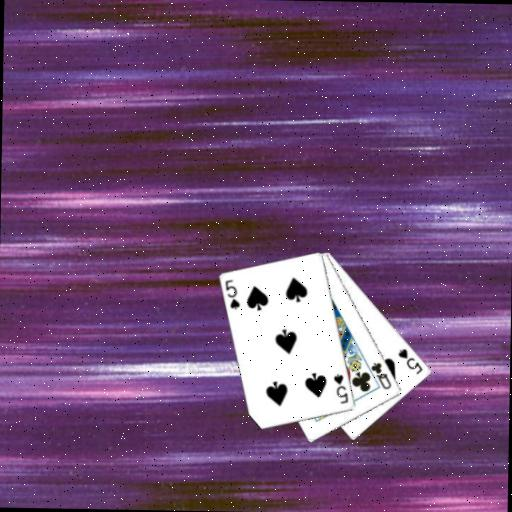5S: (395, 345, 425, 376), (330, 372, 351, 406), (222, 277, 243, 311)
QC: (368, 359, 394, 391)
